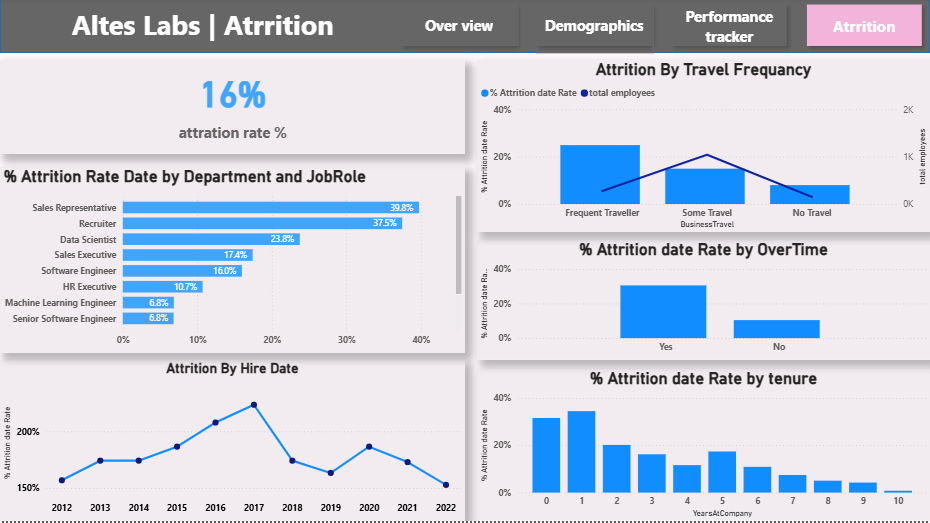

This screenshot's page, from the dashboard's own definition file:
{"tool":"powerbi","page":{"name":"Atrrition","canvas":[1280,720],"ordinal":3},"visuals":[{"type":"shape","box":[0,0,1280,75.7],"z":0},{"type":"pageNavigator","box":[544.2,0,736.1,75.8],"z":1000},{"type":"advanceCardE03760C5AB684758B56AA29F9E6C257B","fields":{"mainMeasure":["_measures.attration rate %"]},"box":[0,85.6,639.5,129.6],"z":2000},{"type":"clusteredBarChart","title":"% Attrition Rate Date by Department and JobRole","fields":{"Y":["_measures.% Attrition date Rate"],"Category":["DimEmployee.JobRole","DimEmployee.Department"]},"box":[0,232.3,639.5,255.6],"z":3000},{"type":"lineChart","title":"Attrition By Hire Date","fields":{"Category":["DimDate.Date.Variation.Date Hierarchy.Year","DimDate.Date.Variation.Date Hierarchy.Quarter","DimDate.Date.Variation.Date Hierarchy.Month","DimDate.Date.Variation.Date Hierarchy.Day"],"Y":["_measures.% Attrition date Rate"]},"box":[0,498,640,222],"z":4000},{"type":"lineStackedColumnComboChart","title":"Attrition By Travel  Frequancy","fields":{"Y":["_measures.% Attrition date Rate"],"Category":["DimEmployee.BusinessTravel"],"Y2":["_measures.total employees"]},"box":[656.7,85.6,623.6,237.2],"z":5000},{"type":"clusteredColumnChart","fields":{"Y":["_measures.% Attrition date Rate"],"Category":["DimEmployee.OverTime"]},"box":[656.7,332.6,623.6,165.1],"z":6000},{"type":"clusteredColumnChart","title":"% Attrition date Rate by tenure","fields":{"Y":["_measures.% Attrition date Rate"],"Category":["DimEmployee.YearsAtCompany"]},"box":[656.7,511.1,623.6,209.1],"z":7000},{"type":"actionButton","box":[918.3,3.7,163.9,62.4],"z":8000},{"type":"actionButton","box":[737.4,3.7,162.6,72.1],"z":9000},{"type":"actionButton","box":[556.4,3.7,157.7,62.4],"z":10000},{"type":"textbox","box":[93.6,5.5,422.5,61.9],"z":11000}]}

Visuals, with their boxes in screenshot pixels (x1, y1, x2, y2), scaled from the page's 1280x720 canvas onto the 930x523 screenshot:
shape: locate(0, 0, 929, 55)
pageNavigator: locate(395, 0, 929, 55)
advanceCardE03760C5AB684758B56AA29F9E6C257B - _measures.attration rate %: locate(0, 62, 465, 156)
"% Attrition Rate Date by Department and JobRole" clusteredBarChart: locate(0, 169, 465, 354)
"Attrition By Hire Date" lineChart: locate(0, 362, 465, 522)
"Attrition By Travel  Frequancy" lineStackedColumnComboChart: locate(477, 62, 929, 234)
clusteredColumnChart - _measures.% Attrition date Rate x DimEmployee.OverTime: locate(477, 242, 929, 362)
"% Attrition date Rate by tenure" clusteredColumnChart: locate(477, 371, 929, 522)
actionButton: locate(667, 3, 786, 48)
actionButton: locate(536, 3, 654, 55)
actionButton: locate(404, 3, 519, 48)
textbox: locate(68, 4, 375, 49)
